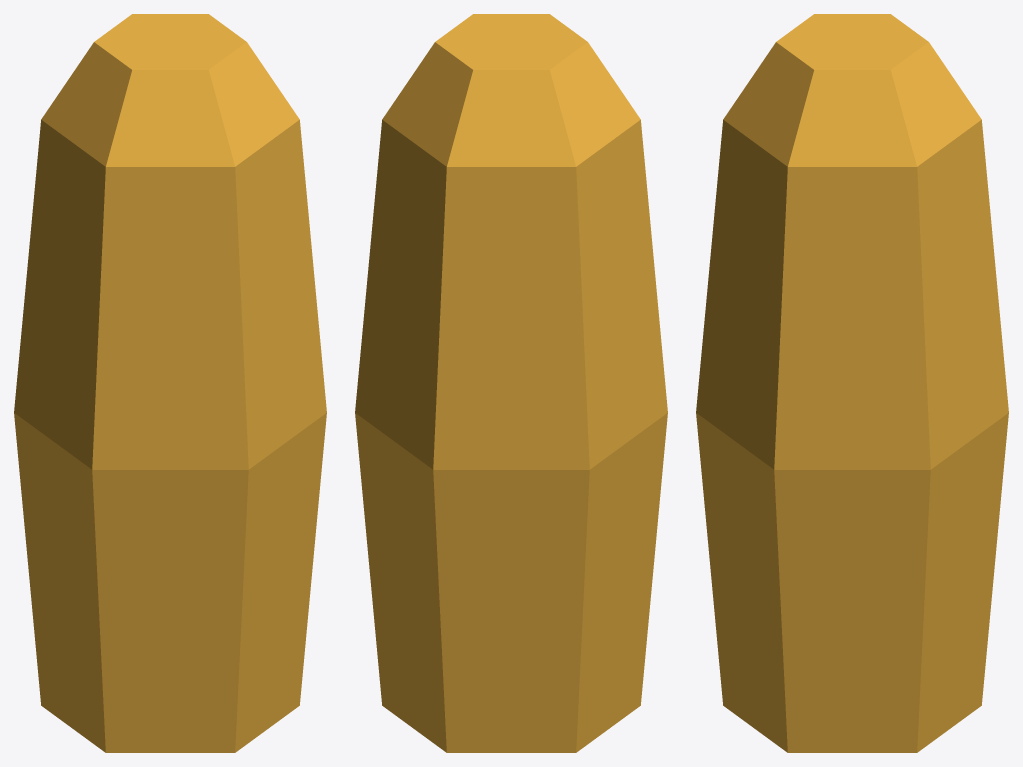
Rendered from cornCob.obj.
The picture shows the model from 3 angles, left to right: view 1: azimuth 30°, elevation 25°; view 2: azimuth 150°, elevation 25°; view 3: azimuth 270°, elevation 25°; orthographic projection.
Visible parts, largest first — view 1: corn.001; view 2: corn.001; view 3: corn.001.
Part boxes in pixels (box(x1,y1,x2,y2)): corn.001: box(14, 14, 326, 752); corn.001: box(355, 14, 667, 752); corn.001: box(696, 14, 1008, 752).
Size of the model in its own units: 0.0524 by 0.1416 by 0.0605.
